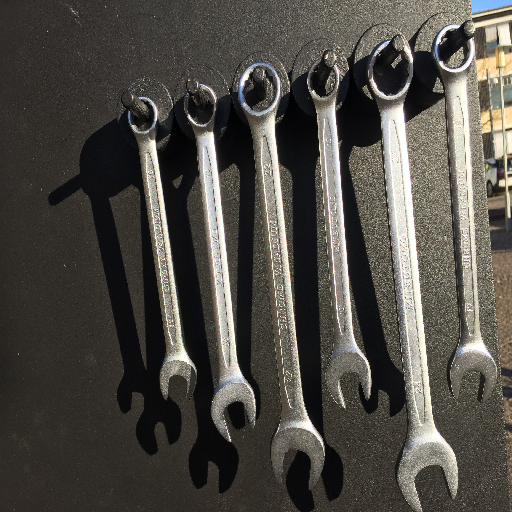bottom: (394, 432, 462, 512), (268, 419, 327, 495), (446, 340, 499, 406), (208, 376, 260, 443), (324, 347, 375, 412), (155, 350, 199, 404)
top: (363, 36, 419, 108), (235, 61, 285, 123), (429, 26, 478, 77), (303, 54, 343, 105), (180, 81, 221, 130), (121, 94, 162, 138)
